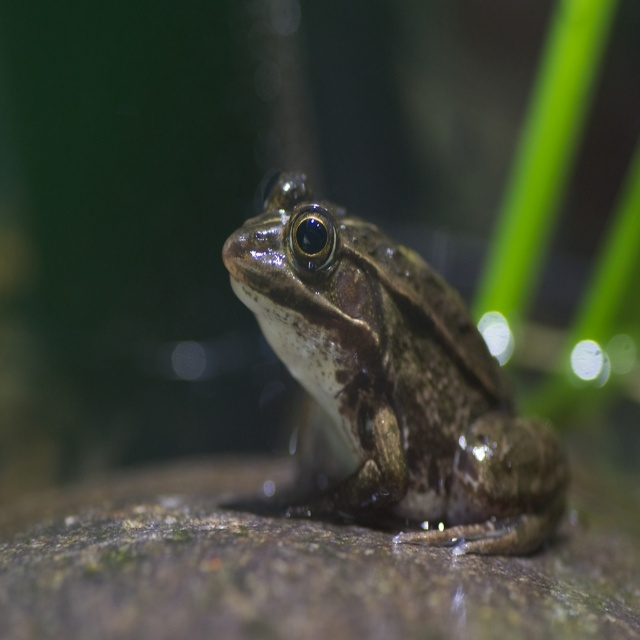Frog: (222, 171, 571, 555)
